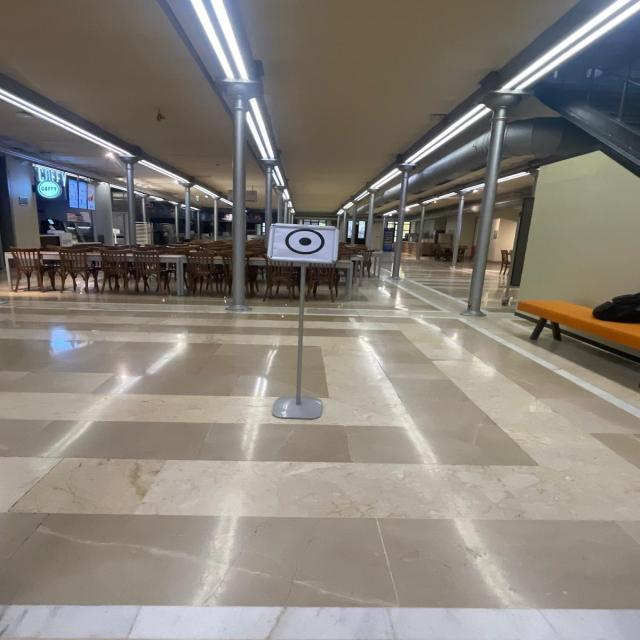Target: (261, 210, 345, 274)
inner: (293, 232, 319, 252)
